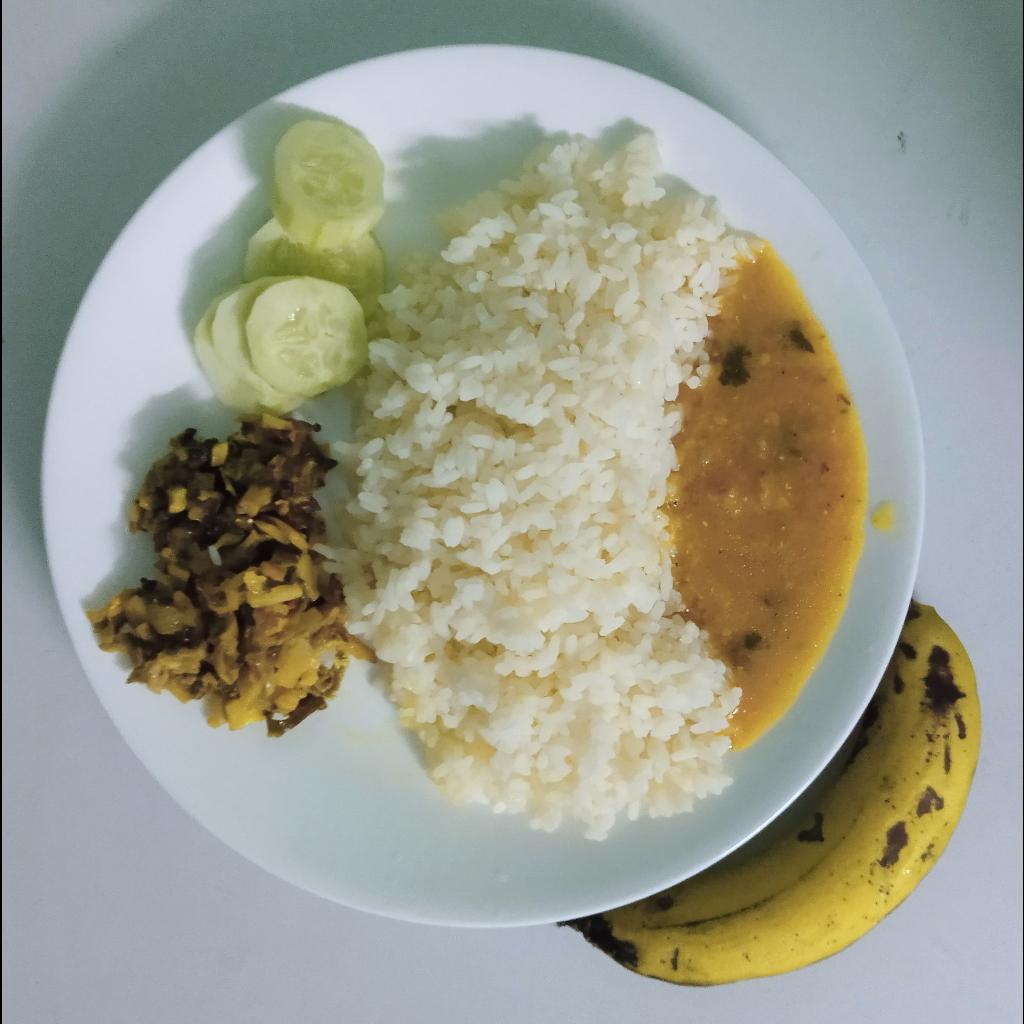banana: (558, 599, 980, 986)
cucumber: (191, 121, 386, 417)
daal: (666, 248, 871, 755)
rice: (313, 135, 747, 846)
vegetable: (82, 418, 366, 737)
